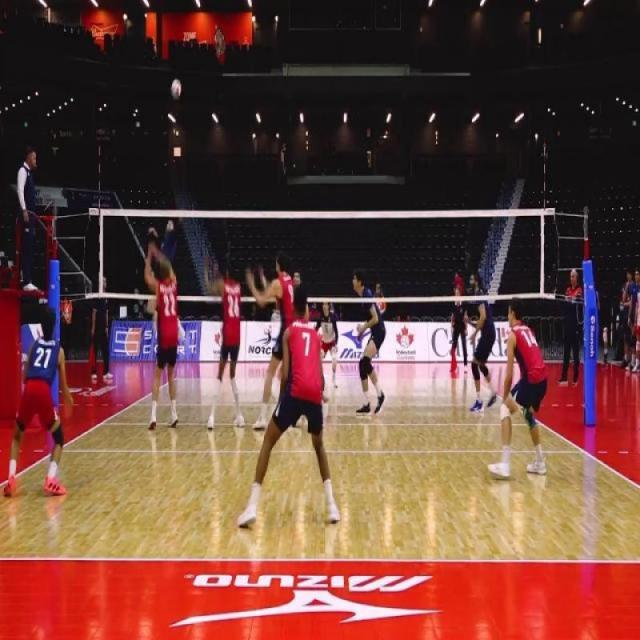volleyball: (170, 77, 182, 101)
